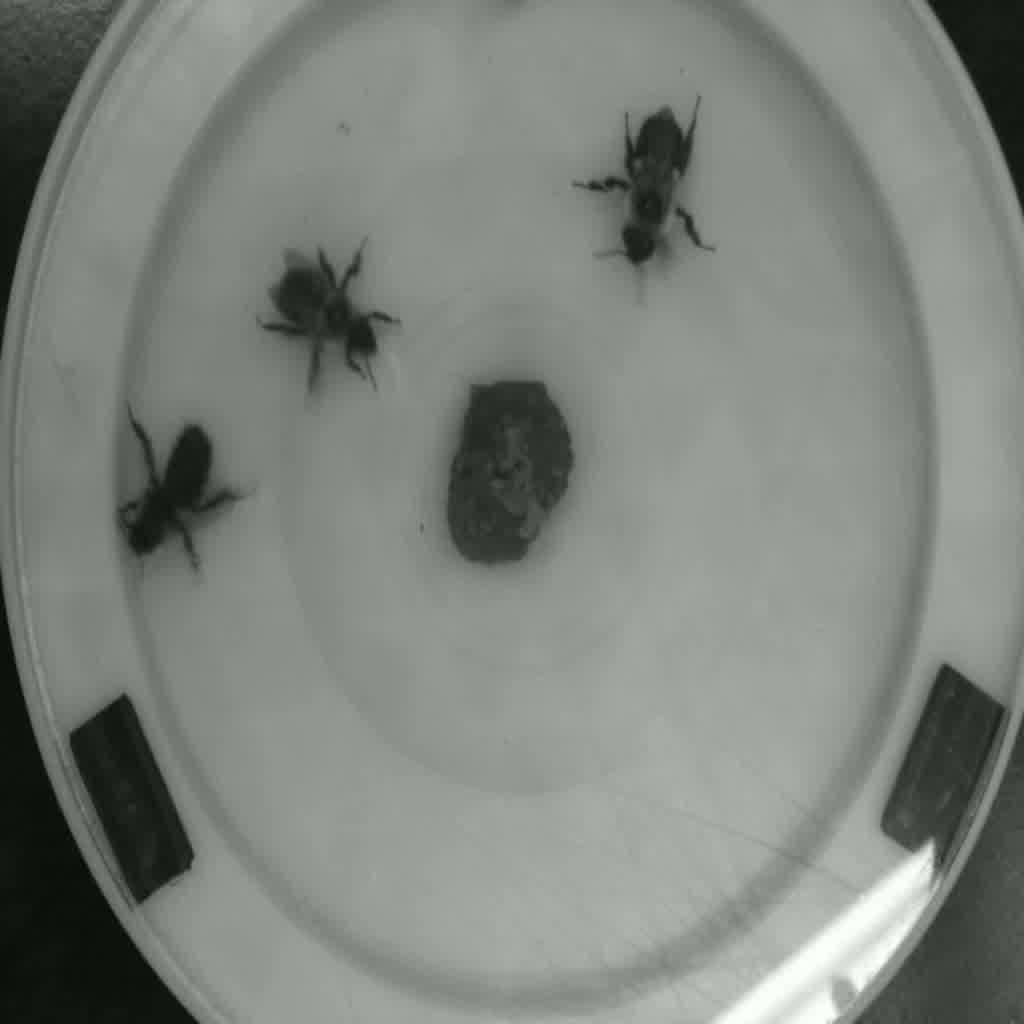bee: (595, 95, 710, 288), (114, 420, 225, 581), (262, 252, 389, 387)
